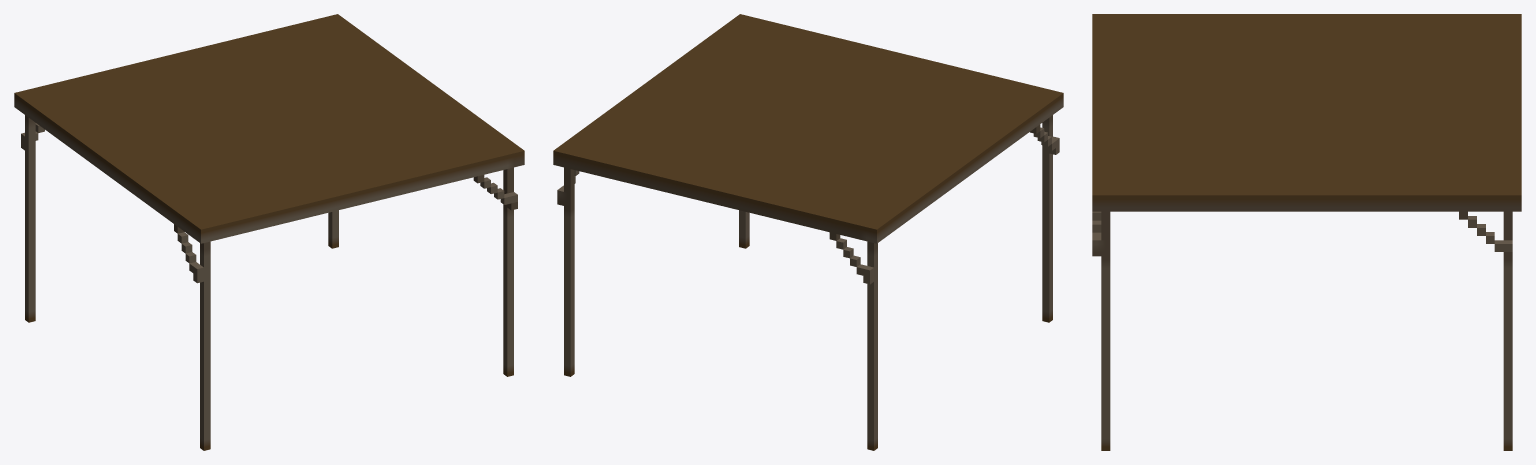
File: cardTable.fbx
3 renders of one model, left to right at view 1: azimuth 30°, elevation 25°; view 2: azimuth 150°, elevation 25°; view 3: azimuth 270°, elevation 25°, orthographic. The views are drawn at different scales.
Visible parts, largest first — view 1: cardTable; view 2: cardTable; view 3: cardTable.
Boxes of the visible parts, x1,y1,x2,y2 form: cardTable: (14,14,524,450); cardTable: (553,14,1063,450); cardTable: (1092,14,1521,450).
Size of the model in its own units: 48 by 32 by 48.
